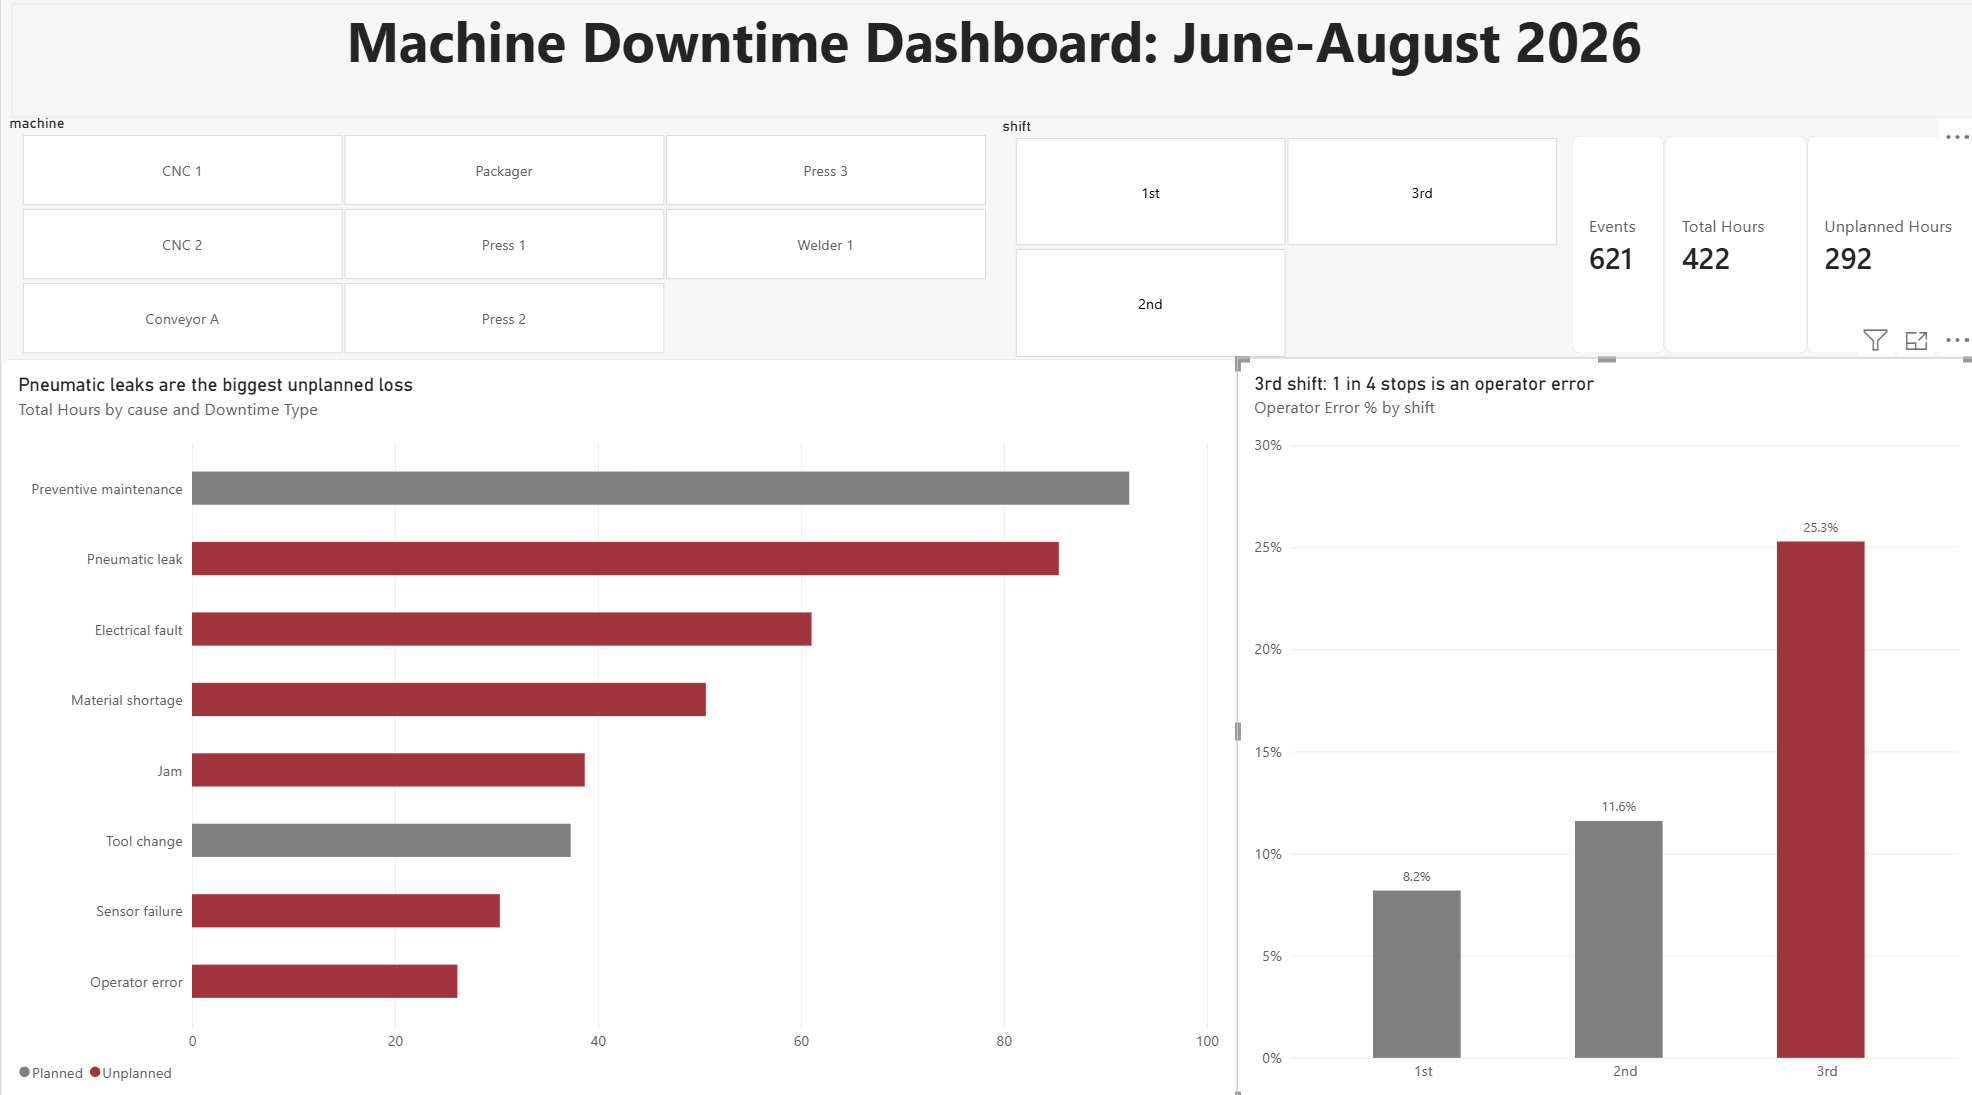

What the dashboard file says about the page in this screenshot:
{"tool":"powerbi","page":{"name":"Page 1","canvas":[1920,1080],"ordinal":0},"visuals":[{"type":"cardVisual","fields":{"Data":["downtime_log.Total Hours"]},"box":[1617.3,1.5,138.8,233.8],"z":0},{"type":"cardVisual","fields":{"Data":["downtime_log.Events"]},"box":[1525.3,0,92,233.8],"z":1},{"type":"cardVisual","fields":{"Data":["downtime_log.Unplanned Hours"]},"box":[1756.1,0,164.4,233.8],"z":2},{"type":"clusteredBarChart","title":"Pneumatic leaks are the biggest unplanned loss","fields":{"Category":["downtime_log.cause"],"Series":["downtime_log.Downtime Type"],"Y":["downtime_log.Total Hours"]},"box":[0,233.8,1200.9,846.4],"z":3},{"type":"clusteredColumnChart","title":"3rd shift: 1 in 4 stops is an operator error","fields":{"Category":["downtime_log.shift"],"Y":["downtime_log.Operator Error %"]},"box":[1201.5,233.3,718.9,847.2],"z":4},{"type":"slicer","fields":{"Values":["downtime_log.machine"]},"box":[0,0,976.1,233.8],"z":5},{"type":"slicer","fields":{"Values":["downtime_log.shift"]},"box":[959.5,0,565.7,233.8],"z":6}]}

Visuals, with their boxes in screenshot pixels (x1, y1, x2, y2), scaled from the page's 1920x1080 canvas onto the 1972x1095 screenshot:
cardVisual - downtime_log.Total Hours: 1661,2,1804,239
cardVisual - downtime_log.Events: 1567,0,1661,237
cardVisual - downtime_log.Unplanned Hours: 1804,0,1971,237
"Pneumatic leaks are the biggest unplanned loss" clusteredBarChart: 0,237,1233,1094
"3rd shift: 1 in 4 stops is an operator error" clusteredColumnChart: 1234,237,1971,1094
slicer - downtime_log.machine: 0,0,1003,237
slicer - downtime_log.shift: 985,0,1567,237
